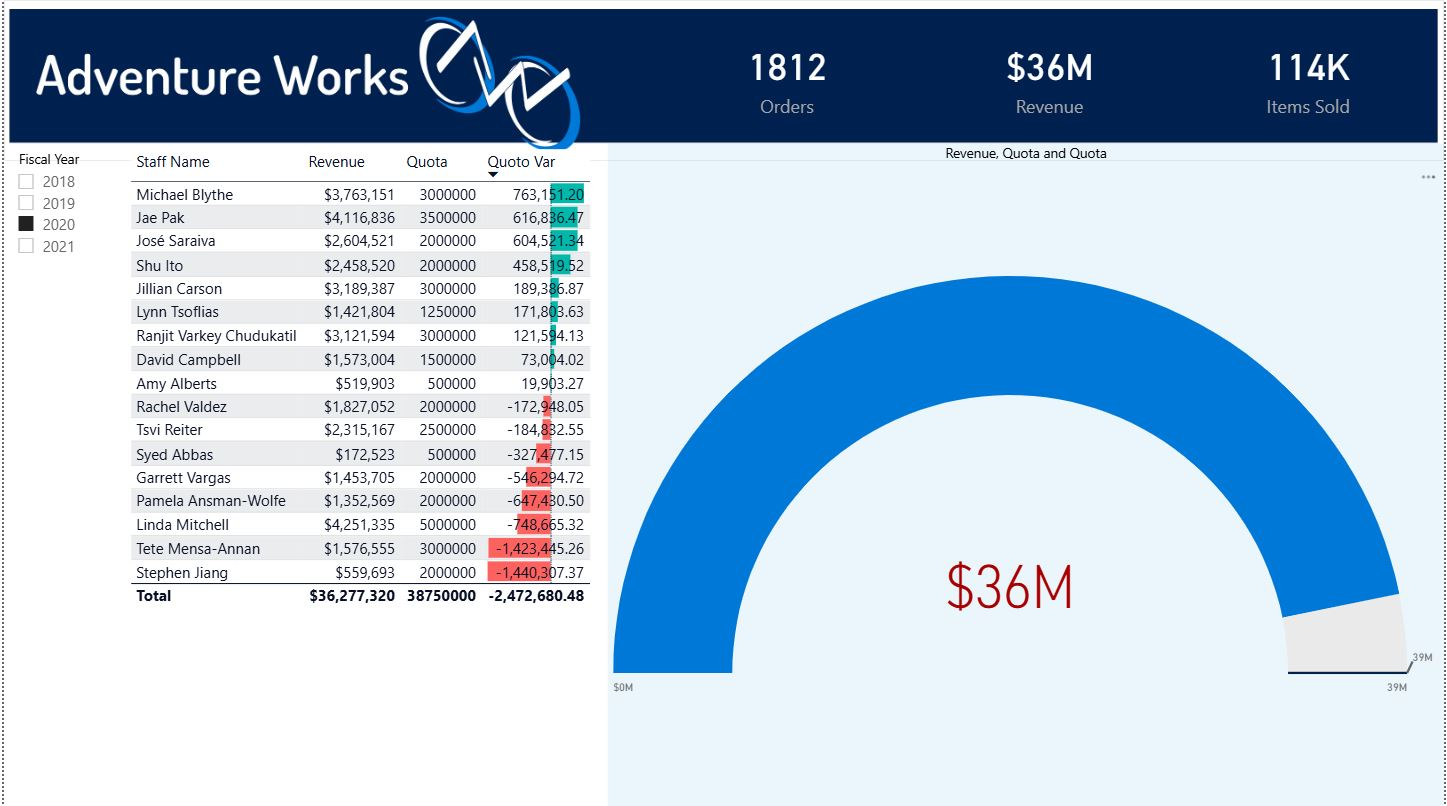

What the dashboard file says about the page in this screenshot:
{"tool":"powerbi","page":{"name":"Quotas","canvas":[1280,720],"ordinal":2},"visuals":[{"type":"image","box":[0,0,1279.8,143.6],"z":0},{"type":"card","fields":{"Values":["Order_Items.Orders"]},"box":[594.6,16.3,203.6,102.4],"z":1000},{"type":"card","fields":{"Values":["Order_Items.Revenue"]},"box":[827.3,16.3,203.6,102.4],"z":2000},{"type":"card","fields":{"Values":["Order_Items.Items Sold"]},"box":[1057.7,16.3,203.6,102.4],"z":3000},{"type":"slicer","fields":{"Values":["Calendar.Fiscal Year"]},"box":[0,127.6,155.8,150.9],"z":4000},{"type":"gauge","fields":{"Y":["Order_Items.Revenue"],"MaxValue":["Quotas.Quota"],"TargetValue":["Quotas.Quota"]},"box":[536.2,127.6,743.6,592.6],"z":5000},{"type":"tableEx","fields":{"Values":["Staff.Staff Name","Order_Items.Revenue","Quotas.Quota","Calendar.Quoto Var"]},"box":[106.7,127.6,430,592.6],"z":6000}]}

Visuals, with their boxes in screenshot pixels (x1, y1, x2, y2), scaled from the page's 1280x720 canvas onto the 1447x806 screenshot:
image: [left=0, top=0, right=1446, bottom=161]
card - Order_Items.Orders: [left=672, top=18, right=902, bottom=133]
card - Order_Items.Revenue: [left=935, top=18, right=1165, bottom=133]
card - Order_Items.Items Sold: [left=1196, top=18, right=1426, bottom=133]
slicer - Calendar.Fiscal Year: [left=0, top=143, right=176, bottom=312]
gauge - Order_Items.Revenue x Quotas.Quota: [left=606, top=143, right=1446, bottom=805]
tableEx - Staff.Staff Name x Order_Items.Revenue: [left=121, top=143, right=607, bottom=805]
